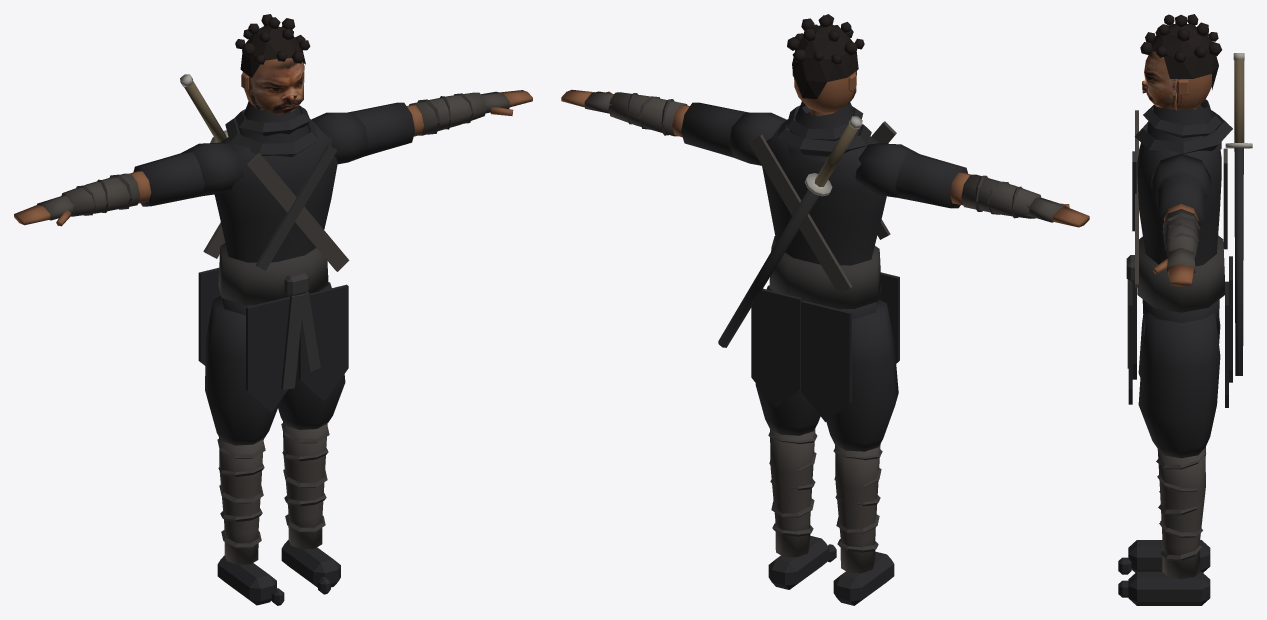
The model's file is pci_v2.glb.
3 renders of one model, left to right at view 1: azimuth 30°, elevation 25°; view 2: azimuth 150°, elevation 25°; view 3: azimuth 270°, elevation 25°, orthographic.
Parts seen in each view (by area): view 1: PCI; view 2: PCI; view 3: PCI.
Part boxes in pixels (x1=…): PCI: x1=14, y1=14, x2=532, y2=605; PCI: x1=561, y1=14, x2=1089, y2=605; PCI: x1=1118, y1=14, x2=1252, y2=605.
Bounding box in the file's own units: 1.75 × 1.85 × 0.3949.
Materials: 9 (1 with a texture image).
